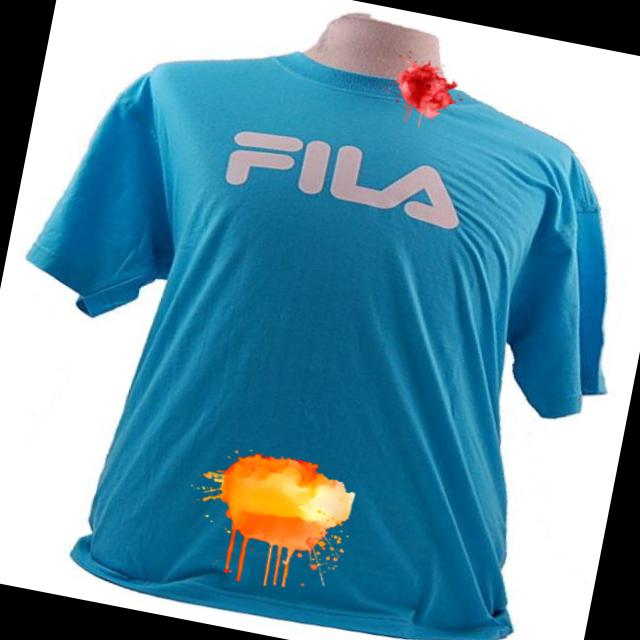stain: (184, 441, 370, 604), (384, 56, 468, 133)
